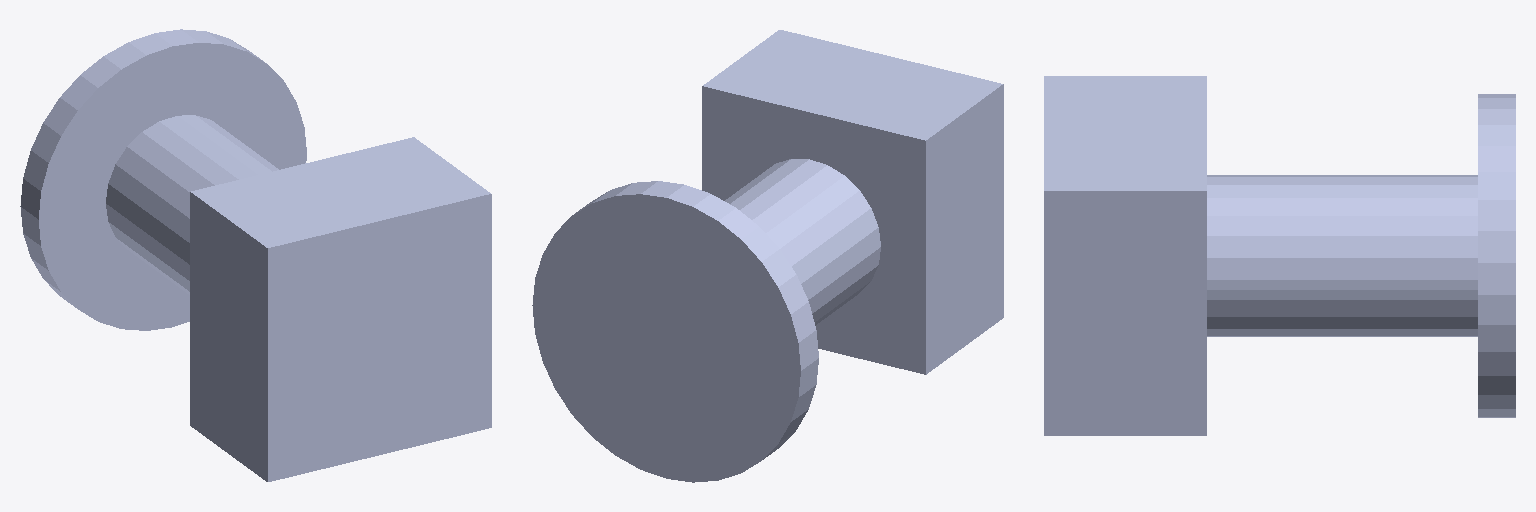
robot.urdf — peg.SLDPRT:
<?xml version="1.0" encoding="utf-8"?>
<!-- This URDF was automatically created by SolidWorks to URDF Exporter! Originally created by [author] ([email redacted]) 
     Commit Version: 1.5.1-0-g916b5db  Build Version: 1.5.7152.31018
     For more information, please see http://wiki.ros.org/sw_urdf_exporter -->
<robot
  name="peg.SLDPRT">
  <link
    name="peg">
    <inertial>
      <origin
        xyz="-9.7991E-19 -0.050718 3.30887925265817E-18"
        rpy="0 0 0" />
      <mass
        value="0.13013" />
      <inertia
        ixx="0.00012561"
        ixy="-4.8374E-21"
        ixz="-3.5293E-21"
        iyy="4.4132E-05"
        iyz="4.35281382483698E-21"
        izz="0.00012561" />
    </inertial>
    <visual>
      <origin
        xyz="0 0 0"
        rpy="1.5707963267949 0 0" />
      <geometry>
        <mesh
          filename="package://peg/meshes/peg.STL" />
      </geometry>
      <material
        name="">
        <color
          rgba="0.79216 0.81961 0.93333 1" />
        <texture
          filename="package://peg/textures/" />
      </material>
    </visual>
    <collision>
      <origin
        xyz="0 0 0"
        rpy="1.5707963267949 0 0" />
      <geometry>
        <mesh
          filename="package://peg/meshes/peg.STL" />
      </geometry>
    </collision>
  </link>
</robot>

--- Render facts (derived) ---
Views: 3 orthographic renders of the robot side by side, from view 1: azimuth 30°, elevation 25°; view 2: azimuth 150°, elevation 25°; view 3: azimuth 270°, elevation 25°.
Model peg.SLDPRT with 1 links and 0 joints (none), rooted at peg, posed every joint at zero.
Visible links, largest first — view 1: peg; view 2: peg; view 3: peg.
Link boxes in pixels (bbox=[...]): peg: bbox=[20, 29, 491, 481]; peg: bbox=[532, 30, 1003, 482]; peg: bbox=[1044, 76, 1515, 435].
Size in the robot's own frame: 0.06 by 0.087 by 0.06 metres.
1 mesh visuals loaded from 1 distinct referenced files (1 binary STL).